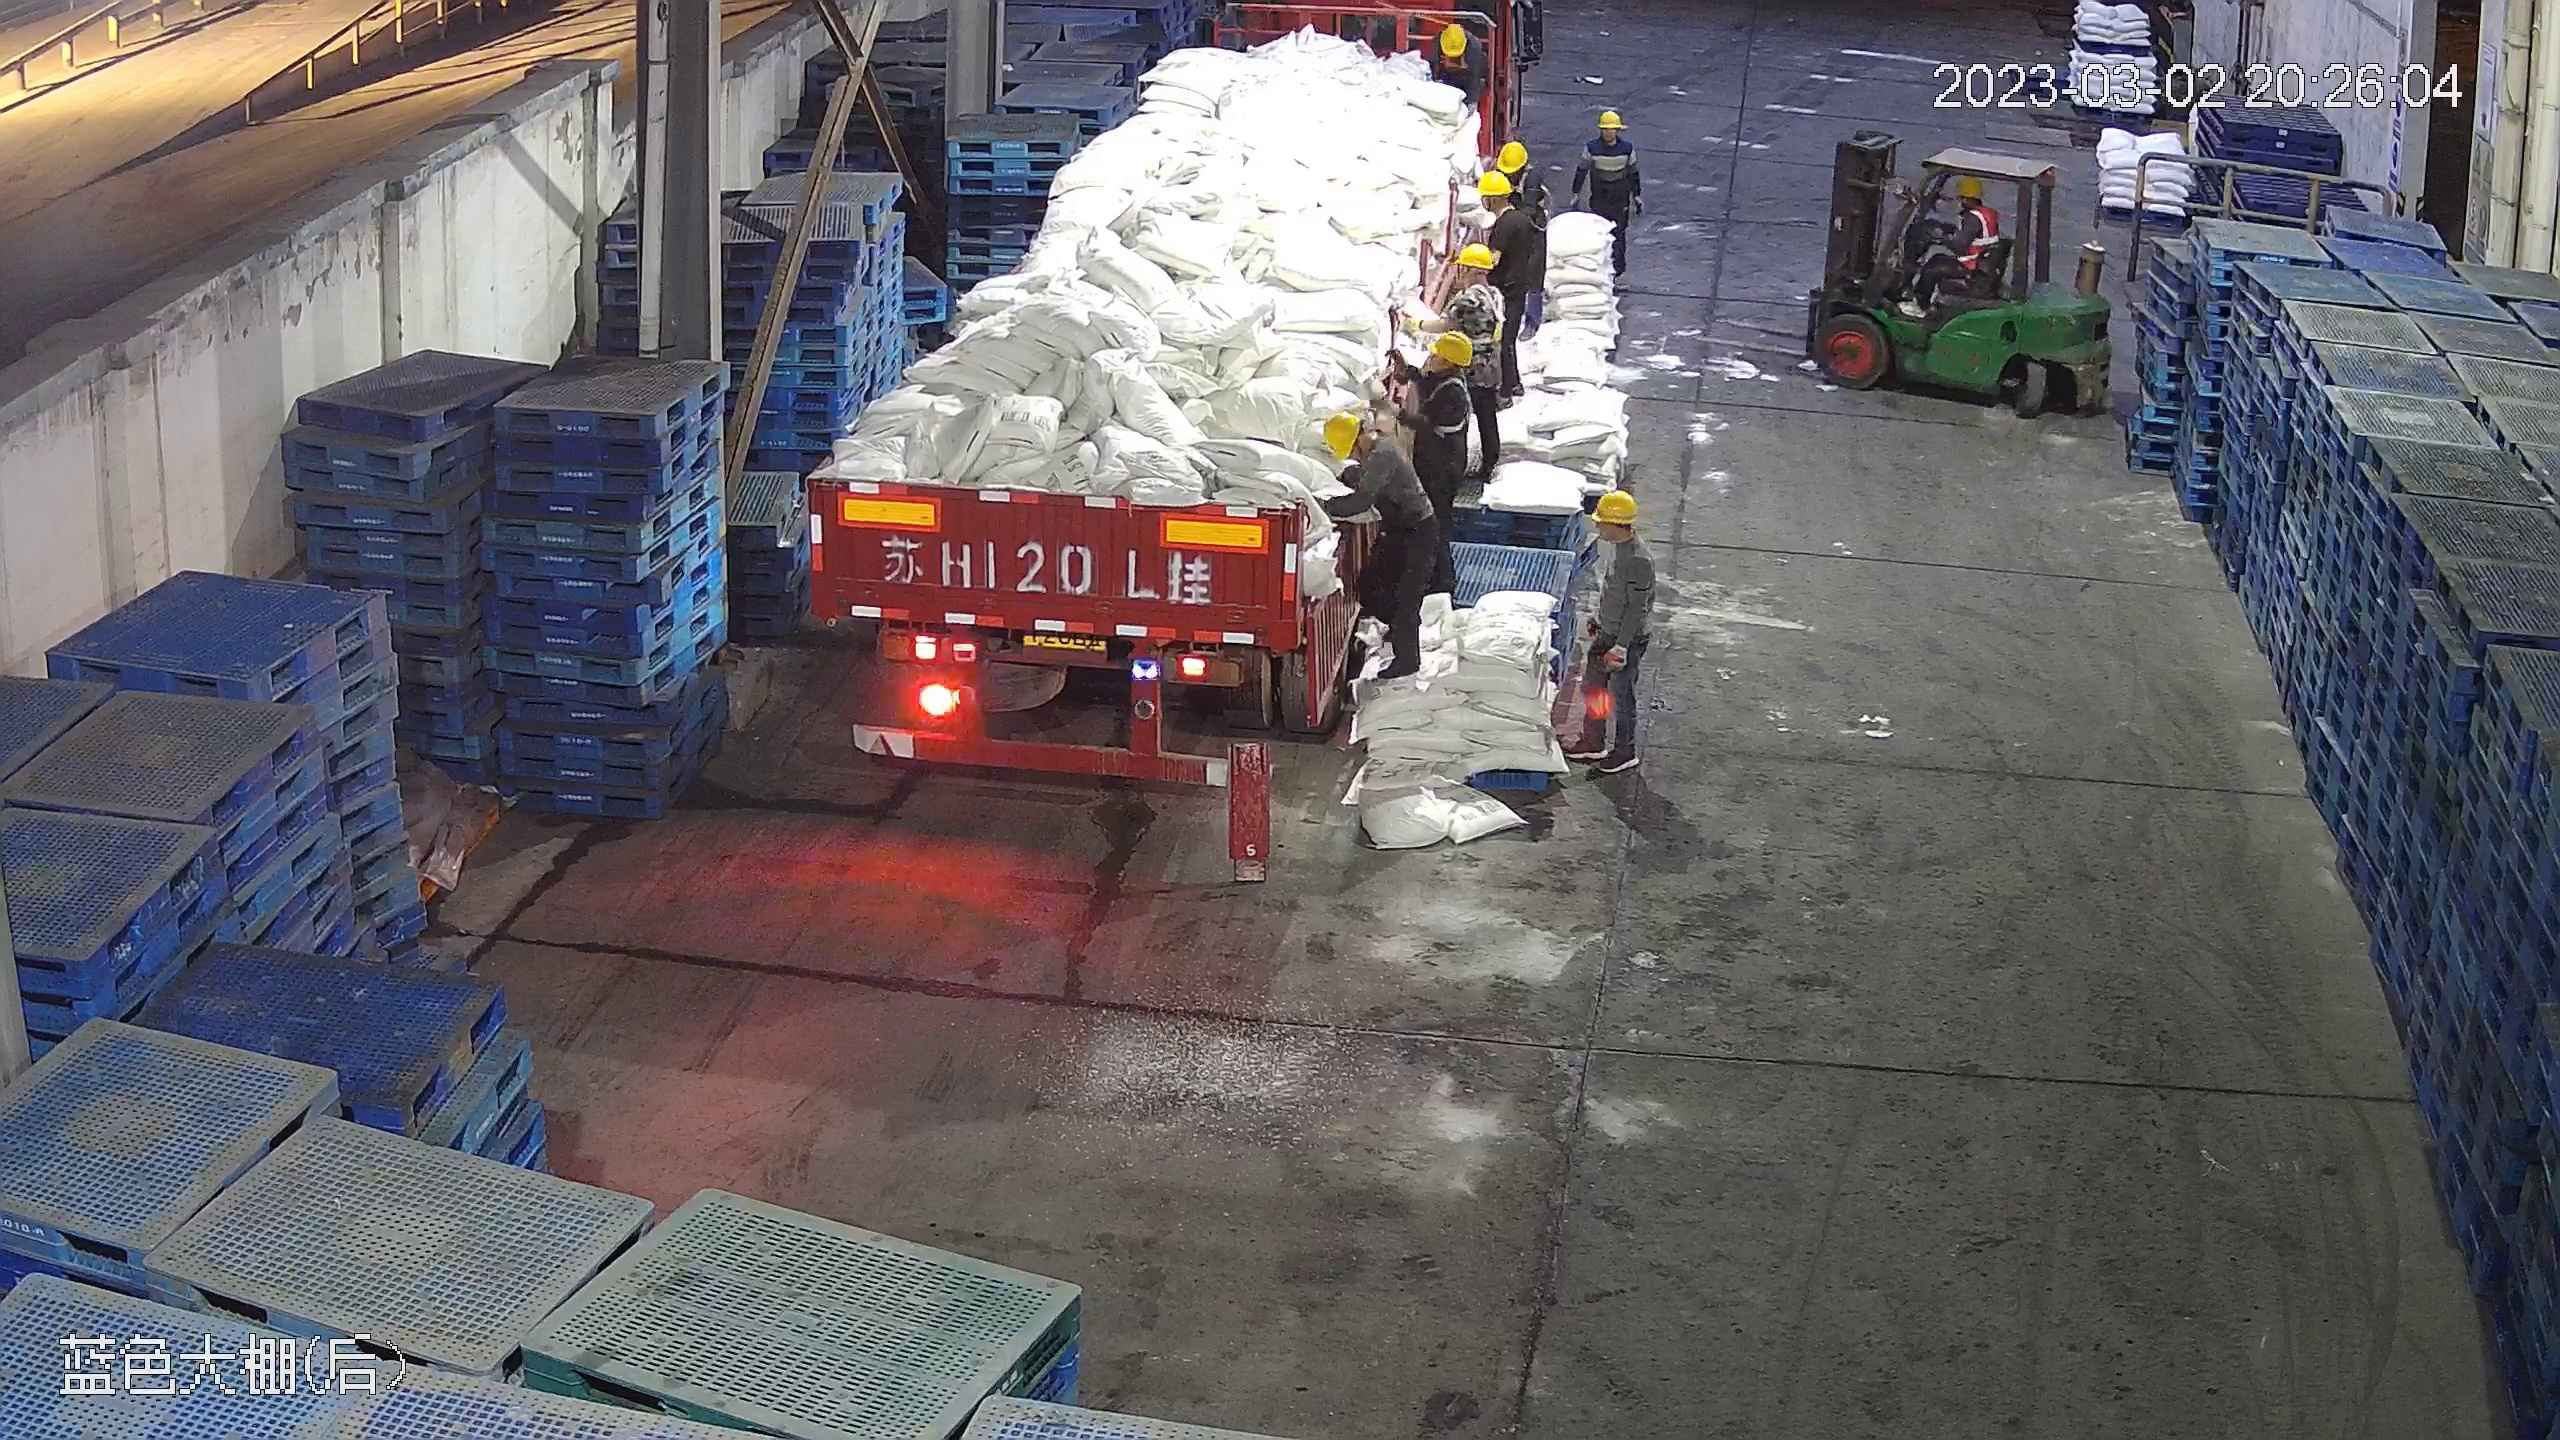belt: (1351, 429, 1428, 504), (1407, 348, 1472, 415), (1377, 354, 1441, 419), (1455, 270, 1508, 336), (1512, 167, 1532, 201), (1440, 51, 1470, 71), (1437, 15, 1456, 32)
head: (1320, 408, 1413, 495), (1585, 489, 1653, 587), (1443, 241, 1510, 320), (1473, 170, 1541, 249), (1583, 108, 1637, 161), (1431, 20, 1484, 73), (1947, 175, 1992, 227)
helmet: (1424, 328, 1475, 374), (1319, 408, 1361, 460), (1591, 486, 1639, 523), (1452, 241, 1497, 275), (1494, 137, 1530, 171), (1475, 167, 1511, 198), (1436, 20, 1467, 54), (1956, 175, 1984, 198), (1598, 109, 1624, 128)
people: (1316, 405, 1446, 695), (1580, 483, 1664, 777), (1395, 310, 1486, 549), (1434, 223, 1511, 490), (1480, 147, 1553, 362), (1899, 175, 1990, 316), (1581, 106, 1642, 280)
truck: (790, 9, 1477, 792)
